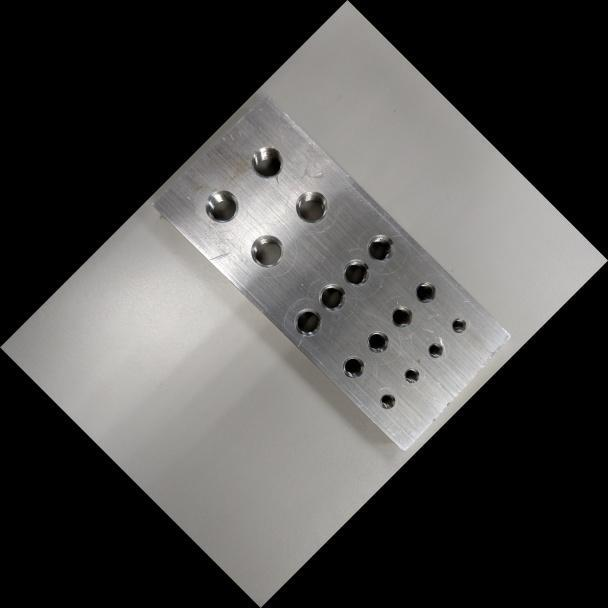hole: (197, 181, 246, 231), (243, 227, 292, 276), (287, 183, 335, 231), (244, 139, 291, 186), (359, 227, 401, 269), (311, 276, 353, 318), (286, 301, 328, 343), (336, 252, 376, 292), (336, 350, 370, 384), (361, 325, 394, 359), (408, 276, 441, 309), (386, 301, 418, 333), (375, 389, 400, 413), (423, 338, 447, 362), (400, 364, 423, 387), (447, 314, 470, 336)
